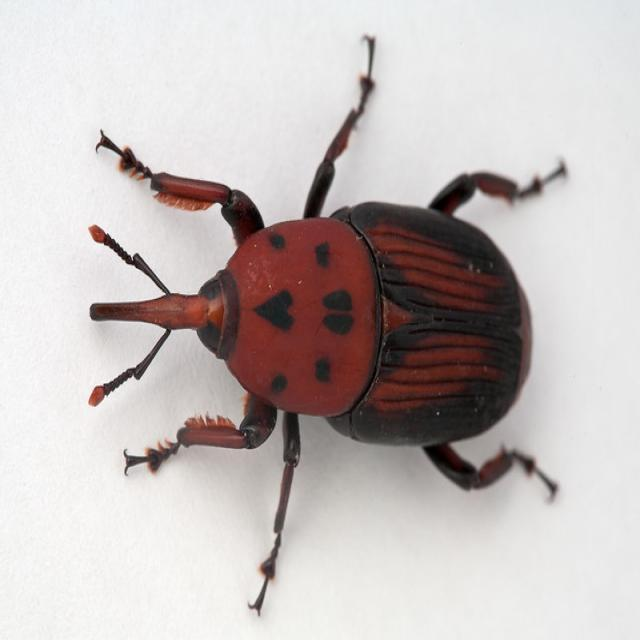Red-palm-weevil: (34, 39, 605, 602)
